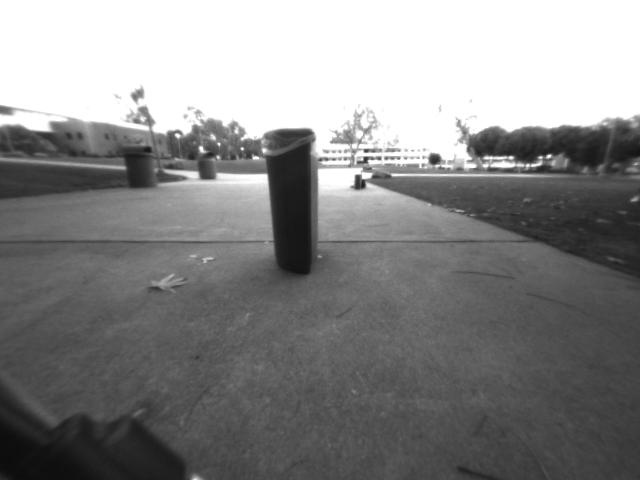trashcan_open: (258, 126, 324, 284)
